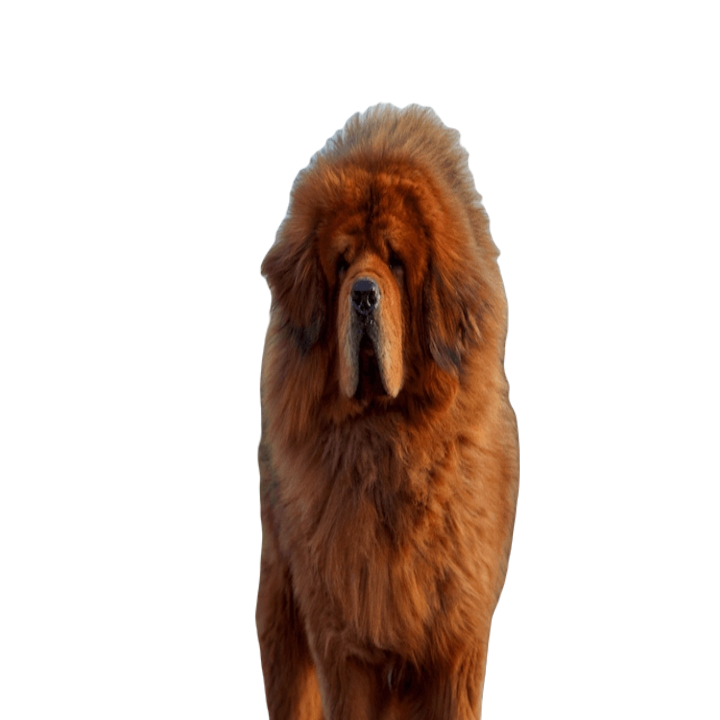Dog: (251, 98, 519, 719)
